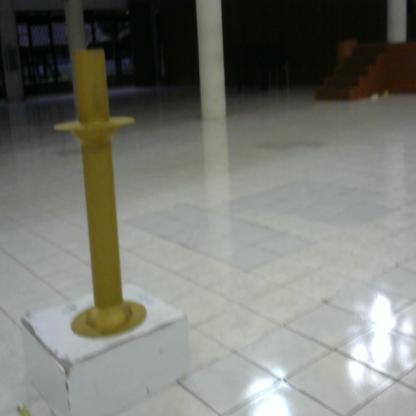pole: (47, 36, 153, 348)
